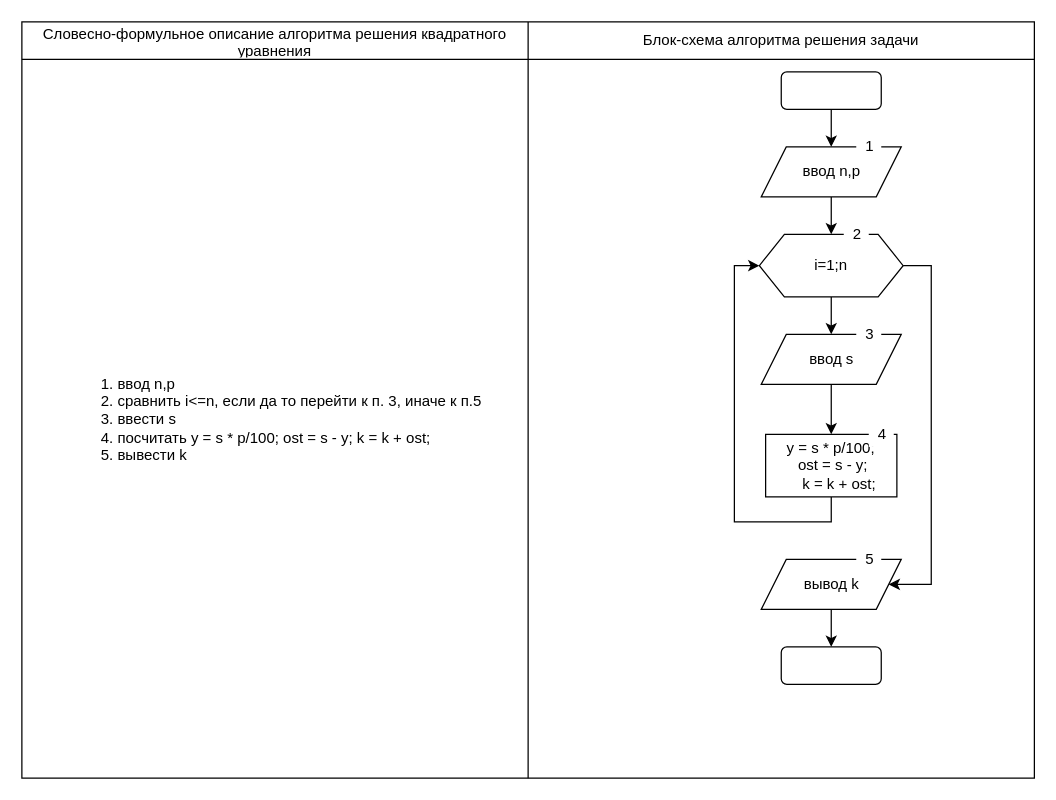
This 1056x800 diagram has some shape labels left out. The centre of each missing label's shape, as x and y in pixels:
конец: the point at 830,665
начало: the point at 830,90
